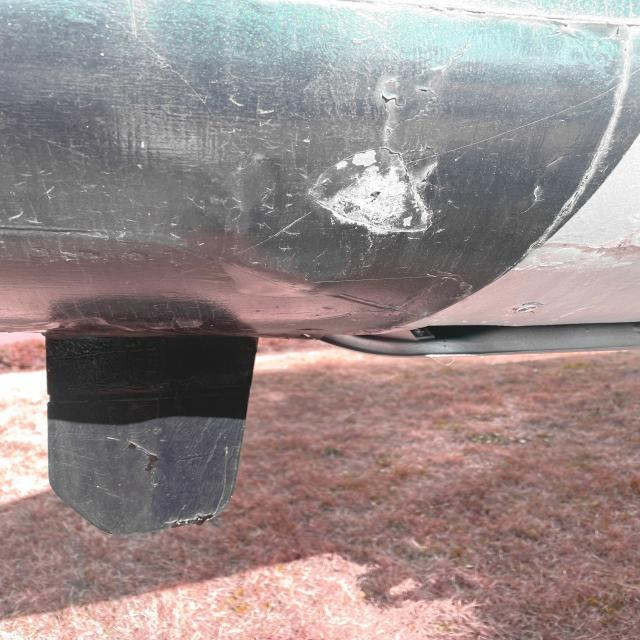crack: (375, 87, 452, 109)
dent: (300, 147, 448, 233)
